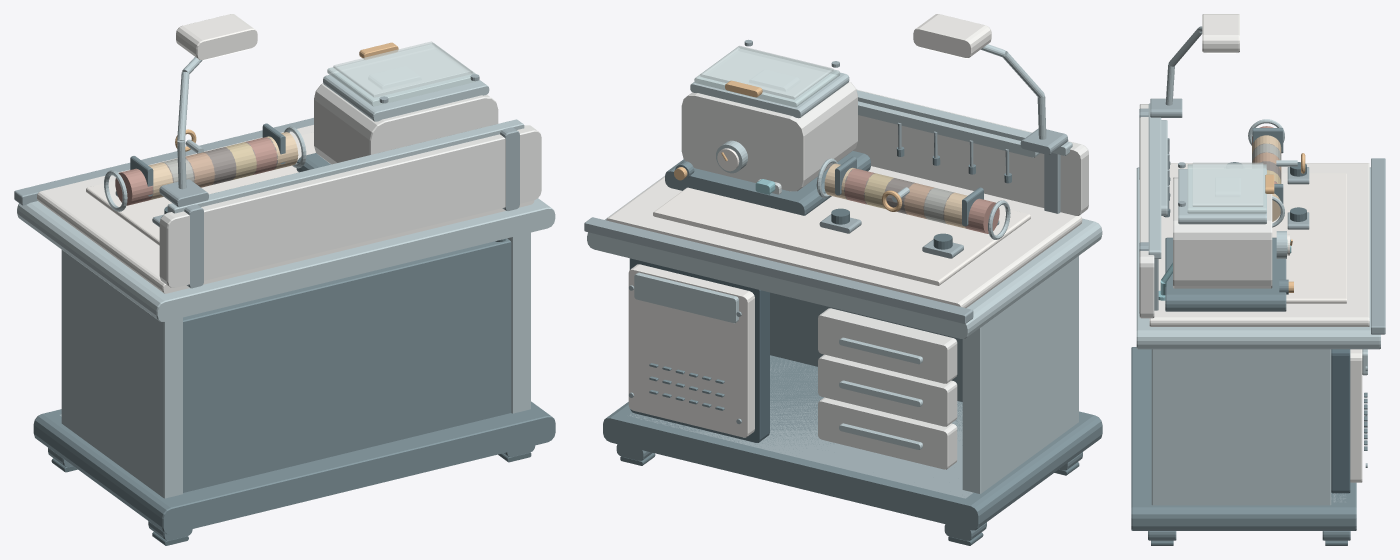
Rendered from science_workbench.glb.
The picture shows the model from 3 angles, left to right: view 1: azimuth 30°, elevation 25°; view 2: azimuth 150°, elevation 25°; view 3: azimuth 270°, elevation 25°; orthographic projection. The views are drawn at different scales.
Visible parts, largest first — view 1: Fixed__graphite, Fixed__aluminium, Fixed__shell, Fixed__ceramic, Fixed__steel, Ice_Chamber_Hatch__glass, Ice_Chamber_Hatch__clear, Fixed__ivory, Fixed__rock_red, Fixed__rock_sand, Fixed__rock_dark, Core_Clamp__graphite (+2 smaller); view 2: Fixed__aluminium, Fixed__ceramic, Fixed__graphite, Fixed__shell, Fixed__steel, Specimen_Drawer__shell, Fixed__ivory, Ice_Chamber_Hatch__glass, Ice_Chamber_Hatch__clear, Fixed__recess, Specimen_Drawer__aluminium, Fixed__rock_red (+6 smaller); view 3: Fixed__aluminium, Fixed__graphite, Fixed__ceramic, Fixed__shell, Fixed__ivory, Fixed__steel, Ice_Chamber_Hatch__glass, Ice_Chamber_Hatch__clear, Fixed__recess, Fixed__rubber, Core_Clamp__graphite, Fixed__rock_sand.
Boxes of the visible parts, x1=… form: Fixed__graphite: x1=33, y1=153, x2=555, y2=540; Fixed__aluminium: x1=17, y1=57, x2=555, y2=498; Fixed__shell: x1=159, y1=83, x2=541, y2=287; Fixed__ceramic: x1=37, y1=14, x2=534, y2=293; Fixed__steel: x1=14, y1=118, x2=519, y2=416; Ice_Chamber_Hatch__glass: x1=327, y1=43, x2=479, y2=106; Ice_Chamber_Hatch__clear: x1=333, y1=41, x2=472, y2=97; Fixed__ivory: x1=86, y1=132, x2=315, y2=245; Fixed__rock_red: x1=115, y1=137, x2=277, y2=205; Fixed__rock_sand: x1=149, y1=132, x2=298, y2=200; Fixed__rock_dark: x1=151, y1=137, x2=277, y2=197; Core_Clamp__graphite: x1=130, y1=123, x2=285, y2=196; Fixed__aluminium: x1=587, y1=44, x2=1102, y2=493; Fixed__ceramic: x1=606, y1=14, x2=1082, y2=437; Fixed__graphite: x1=603, y1=146, x2=1102, y2=540; Fixed__shell: x1=681, y1=81, x2=1088, y2=215; Fixed__steel: x1=584, y1=122, x2=1068, y2=498; Specimen_Drawer__shell: x1=818, y1=308, x2=957, y2=469; Fixed__ivory: x1=653, y1=148, x2=1030, y2=285; Ice_Chamber_Hatch__glass: x1=694, y1=46, x2=840, y2=107; Ice_Chamber_Hatch__clear: x1=700, y1=46, x2=833, y2=99; Fixed__recess: x1=630, y1=258, x2=769, y2=442; Specimen_Drawer__aluminium: x1=839, y1=337, x2=922, y2=449; Fixed__rock_red: x1=844, y1=168, x2=999, y2=233; Fixed__aluminium: x1=1136, y1=26, x2=1380, y2=505; Fixed__graphite: x1=1131, y1=161, x2=1367, y2=540; Fixed__ceramic: x1=1149, y1=14, x2=1369, y2=482; Fixed__shell: x1=1139, y1=104, x2=1272, y2=318; Fixed__ivory: x1=1272, y1=173, x2=1346, y2=303; Fixed__steel: x1=1139, y1=98, x2=1385, y2=502; Ice_Chamber_Hatch__glass: x1=1187, y1=164, x2=1266, y2=213; Ice_Chamber_Hatch__clear: x1=1192, y1=162, x2=1263, y2=206; Fixed__recess: x1=1331, y1=349, x2=1350, y2=493; Fixed__rubber: x1=1151, y1=162, x2=1347, y2=545; Core_Clamp__graphite: x1=1252, y1=128, x2=1283, y2=203; Fixed__rock_sand: x1=1252, y1=135, x2=1281, y2=221.
Bounding box in the file's own units: 1.49 × 1.67 × 0.9475.
